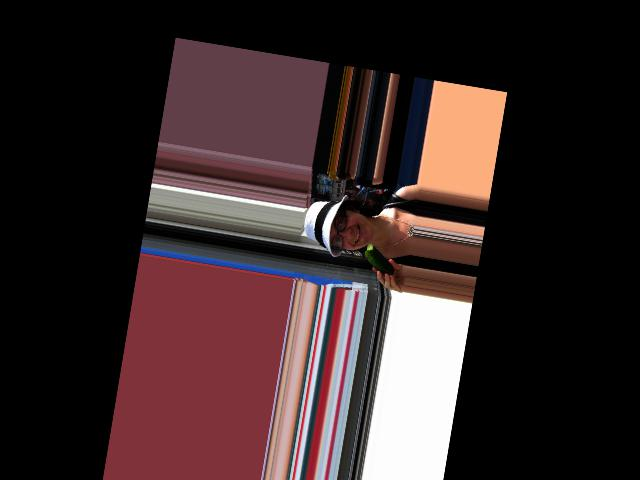cucumber: (362, 243, 398, 276)
